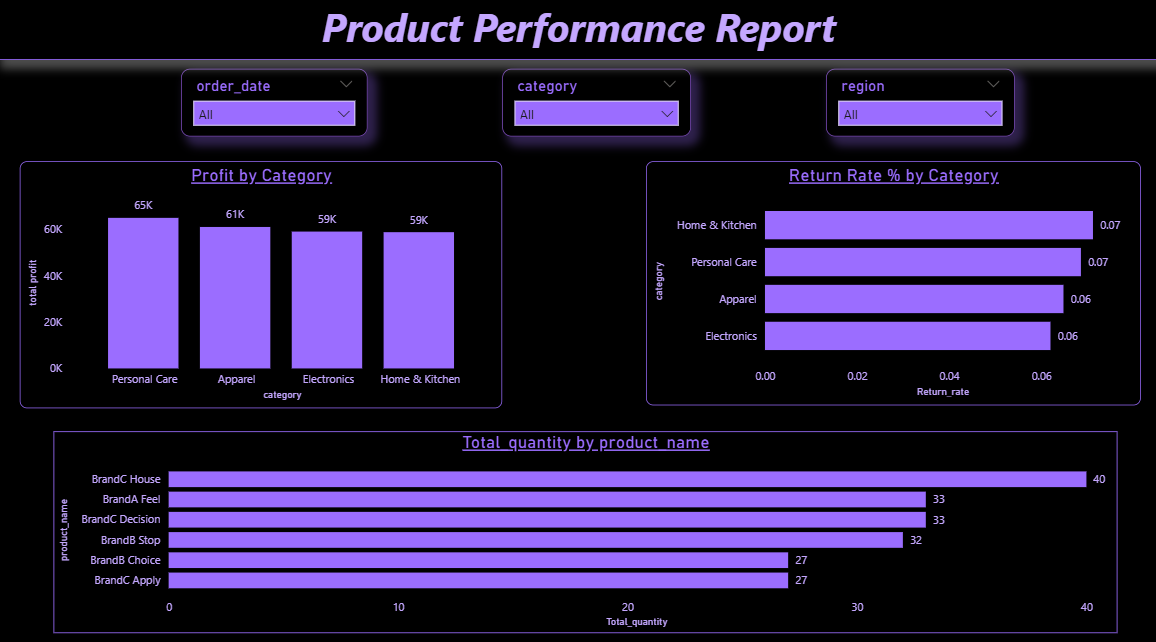

Layout of this report page (visuals, bound fields, positions):
{"tool":"powerbi","page":{"name":"Product Performance","canvas":[1280,720],"ordinal":2},"visuals":[{"type":"columnChart","title":"Profit by Category","fields":{"Category":["products_cleaned.category"],"Y":["Sum(sales_cleaned.profit)"]},"box":[26.5,182.2,529.6,271.4],"z":0},{"type":"slicer","fields":{"Values":["customers_cleaned.region"]},"box":[910.9,80.8,207.5,74.8],"z":1000},{"type":"slicer","fields":{"Values":["products_cleaned.category"]},"box":[555.6,80.8,207.5,74.8],"z":2000},{"type":"slicer","fields":{"Values":["sales_cleaned.order_date"]},"box":[202.7,80.8,205.1,74.8],"z":3000},{"type":"barChart","title":"Return Rate % by Category","fields":{"Category":["products_cleaned.category"],"Y":["sales_cleaned.Return_rate"]},"box":[714.2,182.2,542.9,267.8],"z":4000},{"type":"barChart","fields":{"Y":["sales_cleaned.Total_quantity"],"Category":["products_cleaned.product_name"]},"box":[62.7,479,1167.8,222],"z":5000},{"type":"textbox","box":[0,0,1280,71.2],"z":6000}]}

Visuals, with their boxes in screenshot pixels (x1, y1, x2, y2), scaled from the page's 1280x720 canvas onto the 1156x642 screenshot:
"Profit by Category" columnChart: l=24, t=162, r=502, b=404
slicer - customers_cleaned.region: l=823, t=72, r=1010, b=139
slicer - products_cleaned.category: l=502, t=72, r=689, b=139
slicer - sales_cleaned.order_date: l=183, t=72, r=368, b=139
"Return Rate % by Category" barChart: l=645, t=162, r=1135, b=401
barChart - sales_cleaned.Total_quantity x products_cleaned.product_name: l=57, t=427, r=1111, b=625
textbox: l=0, t=0, r=1155, b=63
